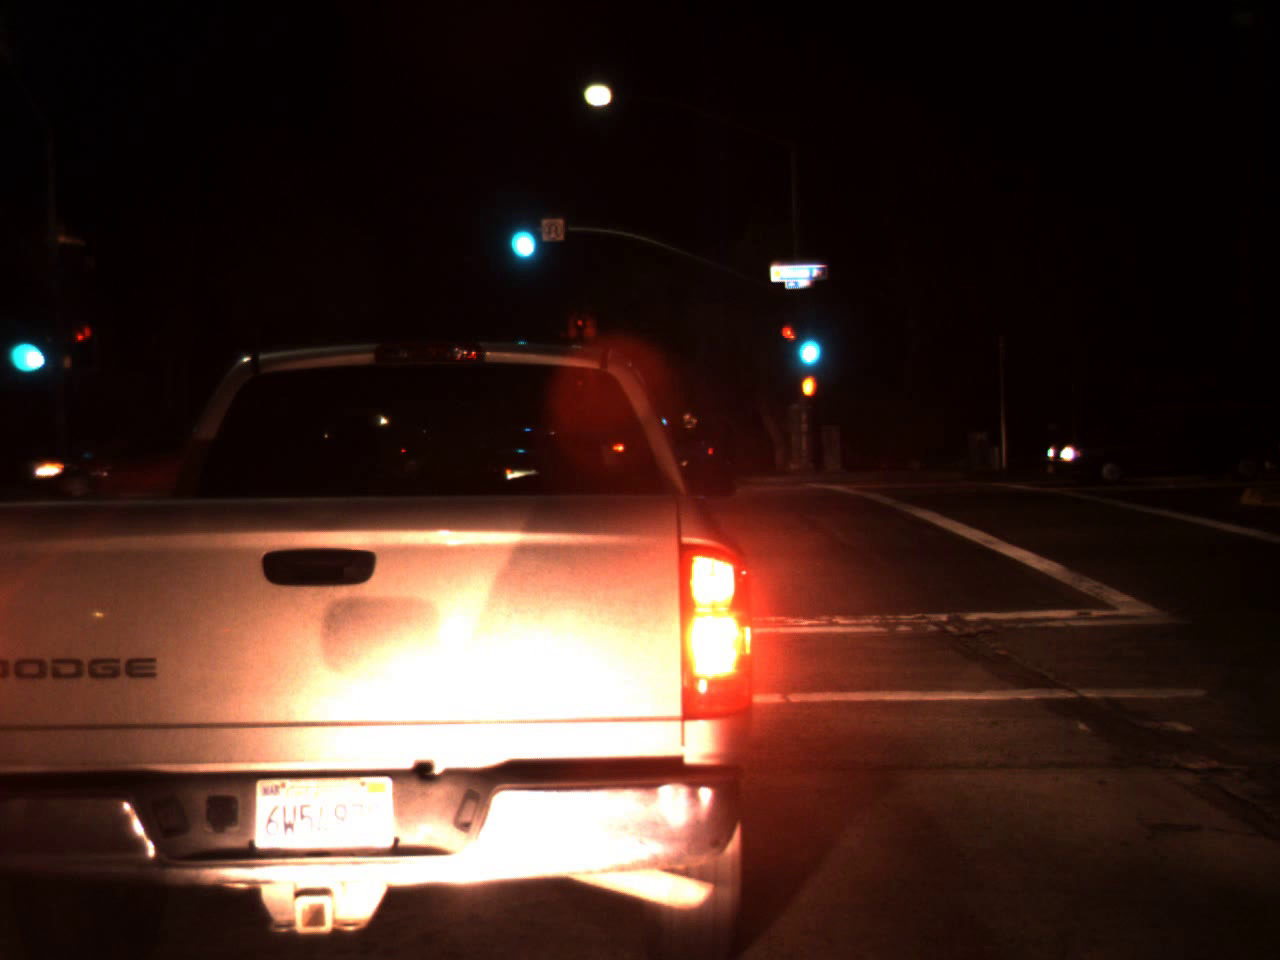go: (0, 305, 49, 383), (501, 196, 540, 268), (790, 306, 826, 375)
